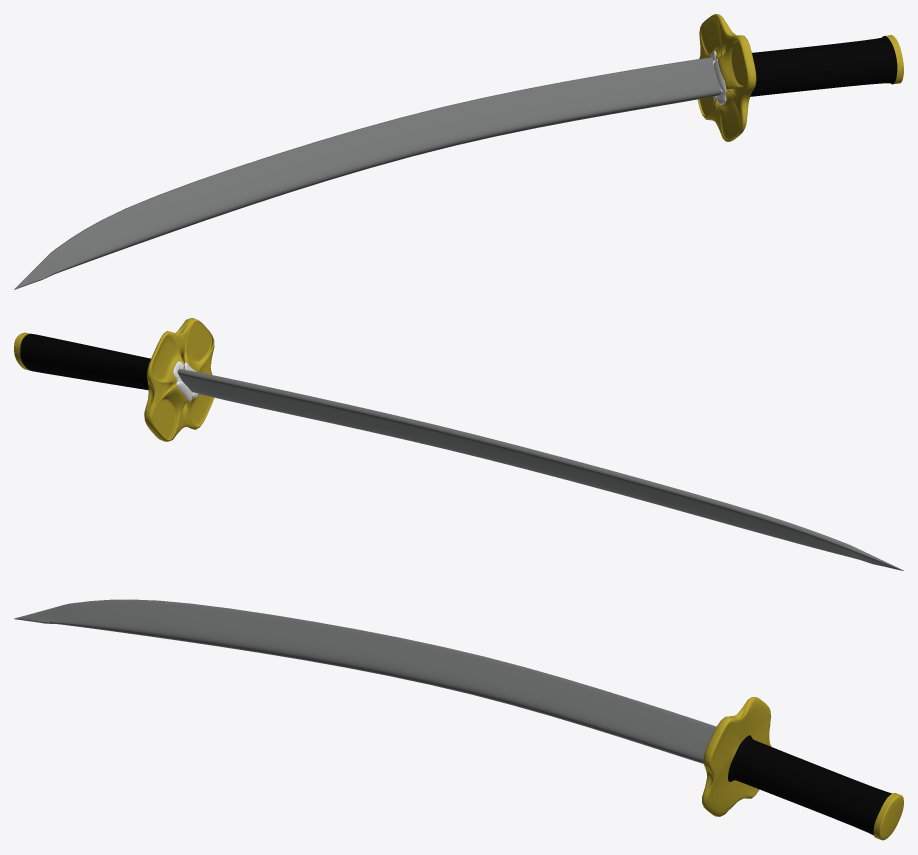
File: katana.fbx
3 renders of one model, top to bottom at view 1: azimuth 30°, elevation 25°; view 2: azimuth 150°, elevation 25°; view 3: azimuth 330°, elevation 25°, orthographic.
Parts seen in each view (by area): view 1: Cube, Cube.002, Cube.003; view 2: Cube, Cube.003, Cube.002; view 3: Cube, Cube.002, Cube.003, Cube.004.
Part boxes in pixels (box(x1,y1,x2,y2)): Cube: box(14, 57, 720, 289); Cube.002: box(750, 36, 897, 96); Cube.003: box(697, 14, 756, 141); Cube: box(177, 369, 903, 570); Cube.003: box(144, 318, 214, 441); Cube.002: box(20, 333, 150, 390); Cube: box(14, 599, 716, 763); Cube.002: box(728, 735, 891, 835); Cube.003: box(702, 697, 771, 816); Cube.004: box(873, 793, 903, 840).
Bounding box in the file's own units: 361 × 42.23 × 42.49.
